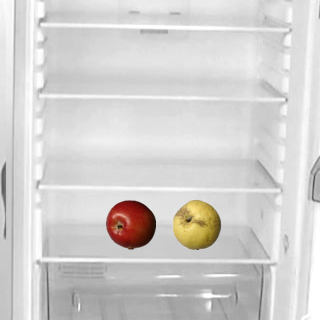Apple Braeburn: (105, 199, 155, 249)
Apple Golden 1: (171, 199, 221, 249)
